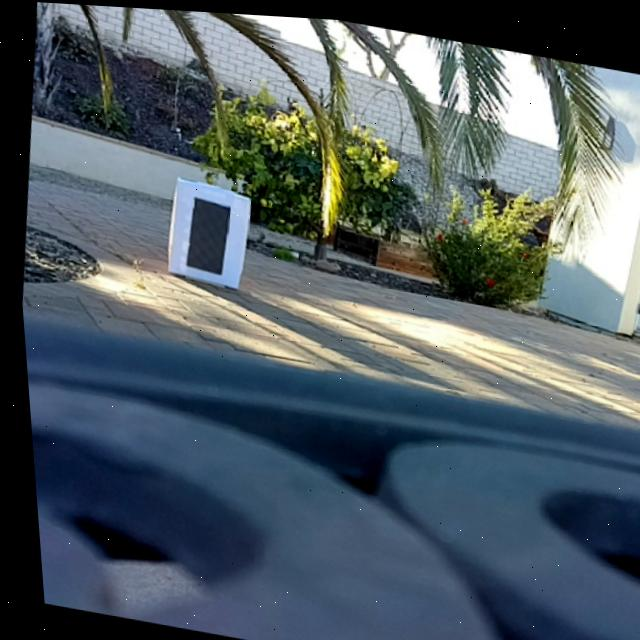led: (177, 193, 230, 273)
